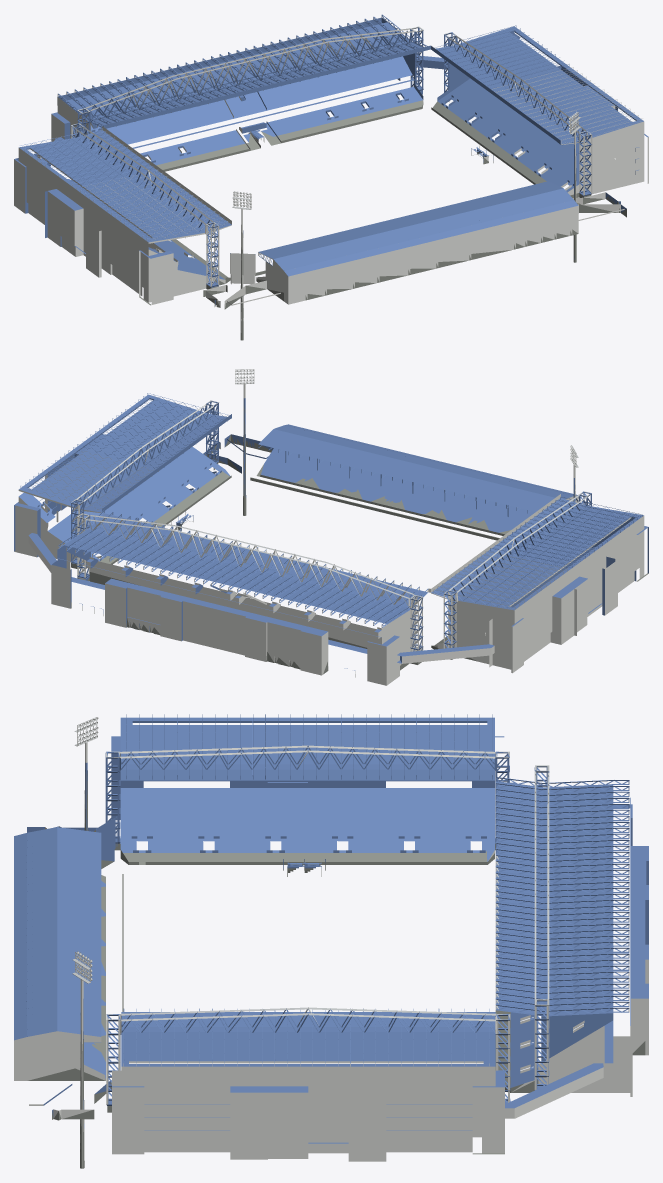
Rendered from estadio.glb.
3 views of the same model, one above another, from view 1: azimuth 30°, elevation 25°; view 2: azimuth 150°, elevation 25°; view 3: azimuth 270°, elevation 25° (orthographic). The views are drawn at different scales.
Visible parts, largest first — view 1: estadio; view 2: estadio; view 3: estadio.
Boxes of the visible parts, <box> form: estadio: <box>14,14,648,340</box>; estadio: <box>14,369,648,685</box>; estadio: <box>14,714,648,1168</box>.
Bounding box in the file's own units: 185 × 50.66 × 136.
